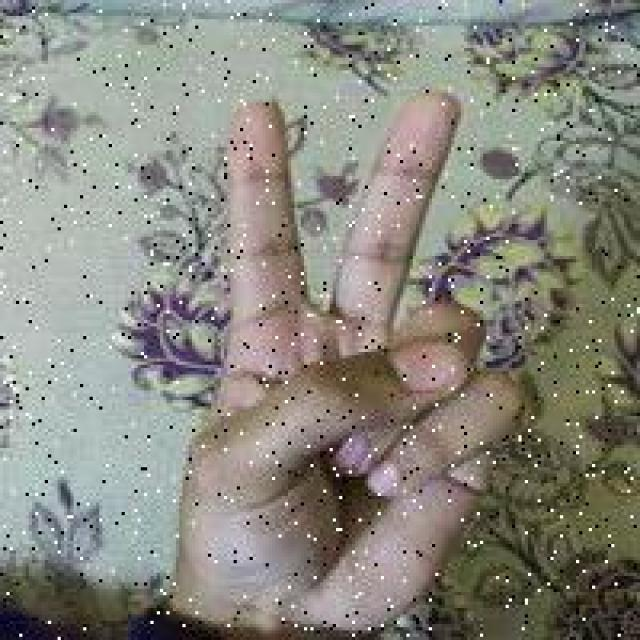V: (173, 87, 531, 628)
